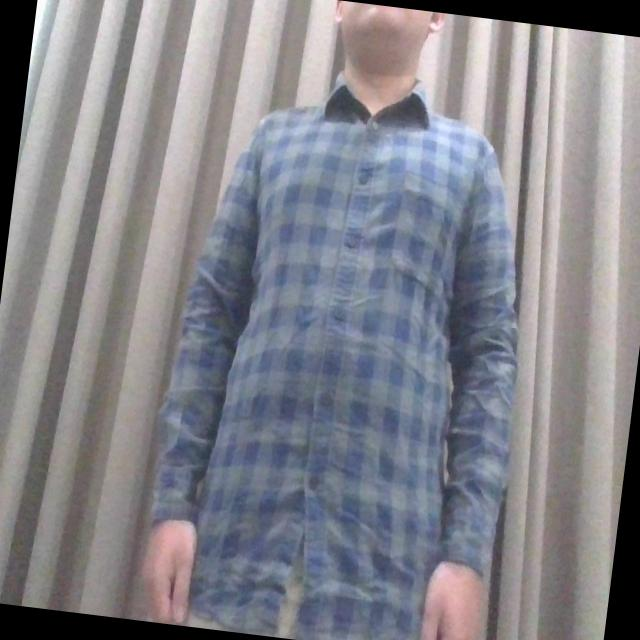long_Sleeve_shirt: (150, 85, 517, 640)
